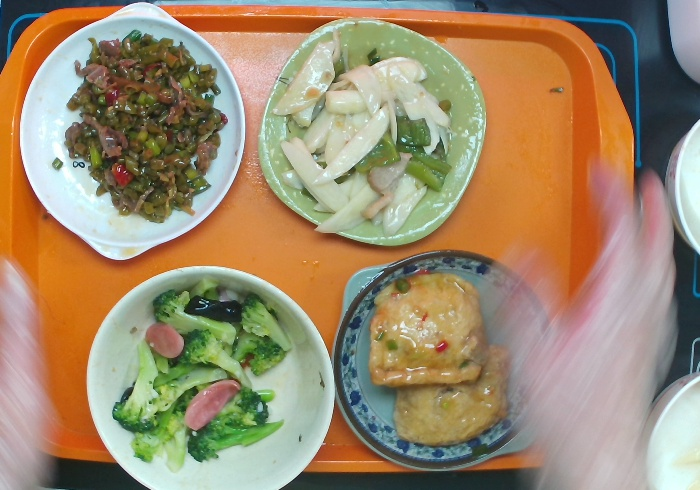NLDX-Bai_Se_Shuang_Er_Die: (15, 1, 248, 266)
NLDX-Bai_Se_Yuan_Wan: (85, 261, 336, 490)
NLDX-Lv_Hua_Fang_Die: (254, 13, 490, 249)
NLDX-Qing_Hua_Shuang_Er_Die: (326, 245, 558, 474)
